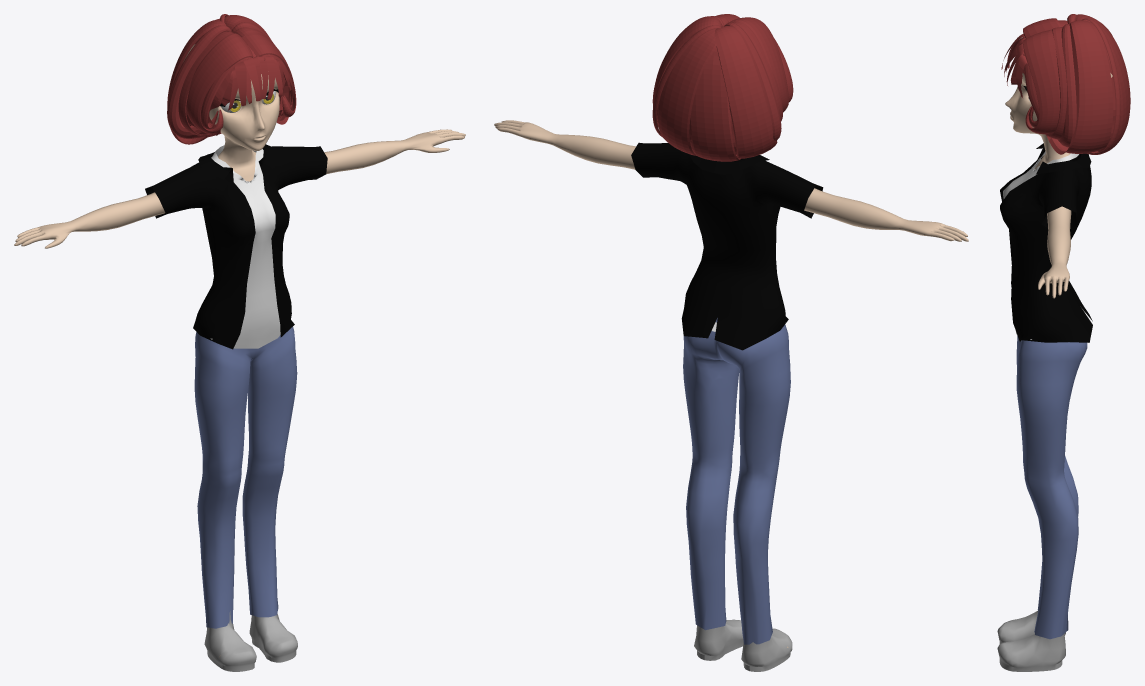
Rendered from Girl Test V1.3.fbx.
3 views of the same model, side by side, from view 1: azimuth 30°, elevation 25°; view 2: azimuth 150°, elevation 25°; view 3: azimuth 270°, elevation 25° (orthographic). The views are drawn at different scales.
Parts seen in each view (by area): view 1: Outfit, SuperBody; view 2: Outfit, SuperBody; view 3: Outfit, SuperBody.
Part boxes in pixels (<box>): Outfit: <box>145,144,327,671</box>; SuperBody: <box>14,14,465,657</box>; Outfit: <box>631,142,823,671</box>; SuperBody: <box>494,14,968,647</box>; Outfit: <box>997,143,1092,671</box>; SuperBody: <box>1001,14,1130,298</box>.
Size of the model in its own units: 6.78 by 8.89 by 1.69.
